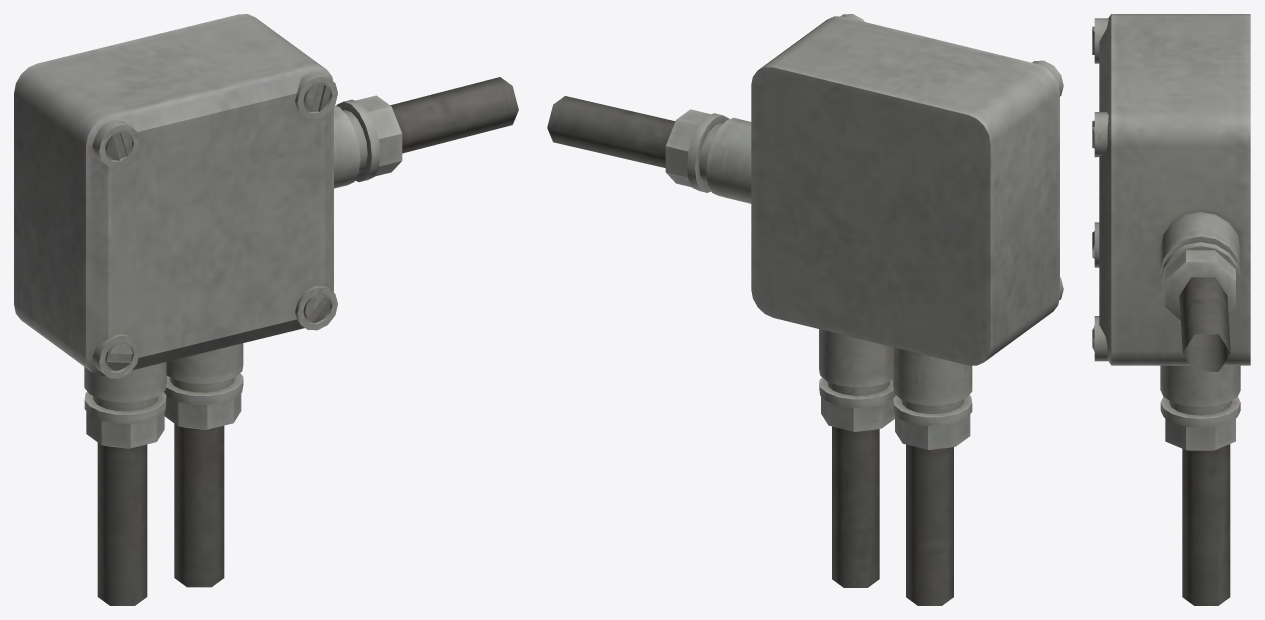
File: cable_box_double_to_single_2.gltf
3 views of the same model, side by side, from view 1: azimuth 30°, elevation 25°; view 2: azimuth 150°, elevation 25°; view 3: azimuth 270°, elevation 25° (orthographic). The views are drawn at different scales.
Parts seen in each view (by area): view 1: cable_box_double_to_single_2; view 2: cable_box_double_to_single_2; view 3: cable_box_double_to_single_2.
Part boxes in pixels (box(x1,y1,x2,y2)): cable_box_double_to_single_2: box(14, 14, 518, 605); cable_box_double_to_single_2: box(547, 14, 1063, 605); cable_box_double_to_single_2: box(1092, 14, 1250, 605).
Size of the model in its own units: 0.1223 by 0.1323 by 0.0369.
Materials: 1 (1 with a texture image).
